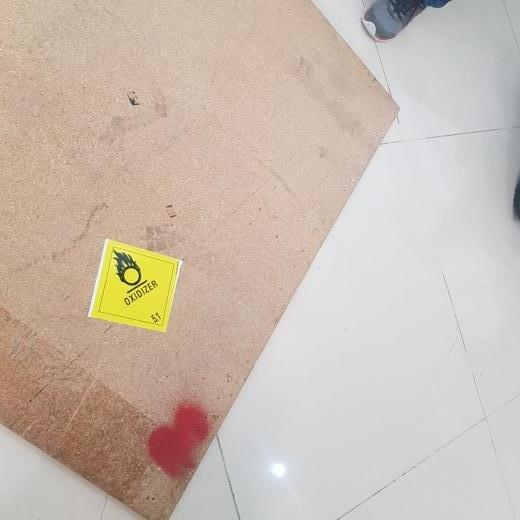oxidizer: (93, 239, 182, 335)
